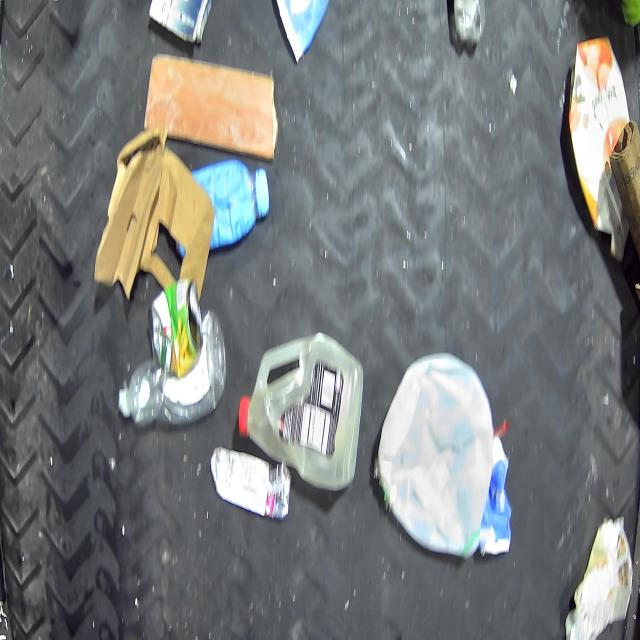can: (151, 278, 203, 378)
milk_jug: (378, 350, 492, 558)
non_white_jug: (239, 334, 364, 489), (568, 35, 631, 262)
plastic_bottle: (119, 310, 227, 428), (453, 0, 485, 44)
